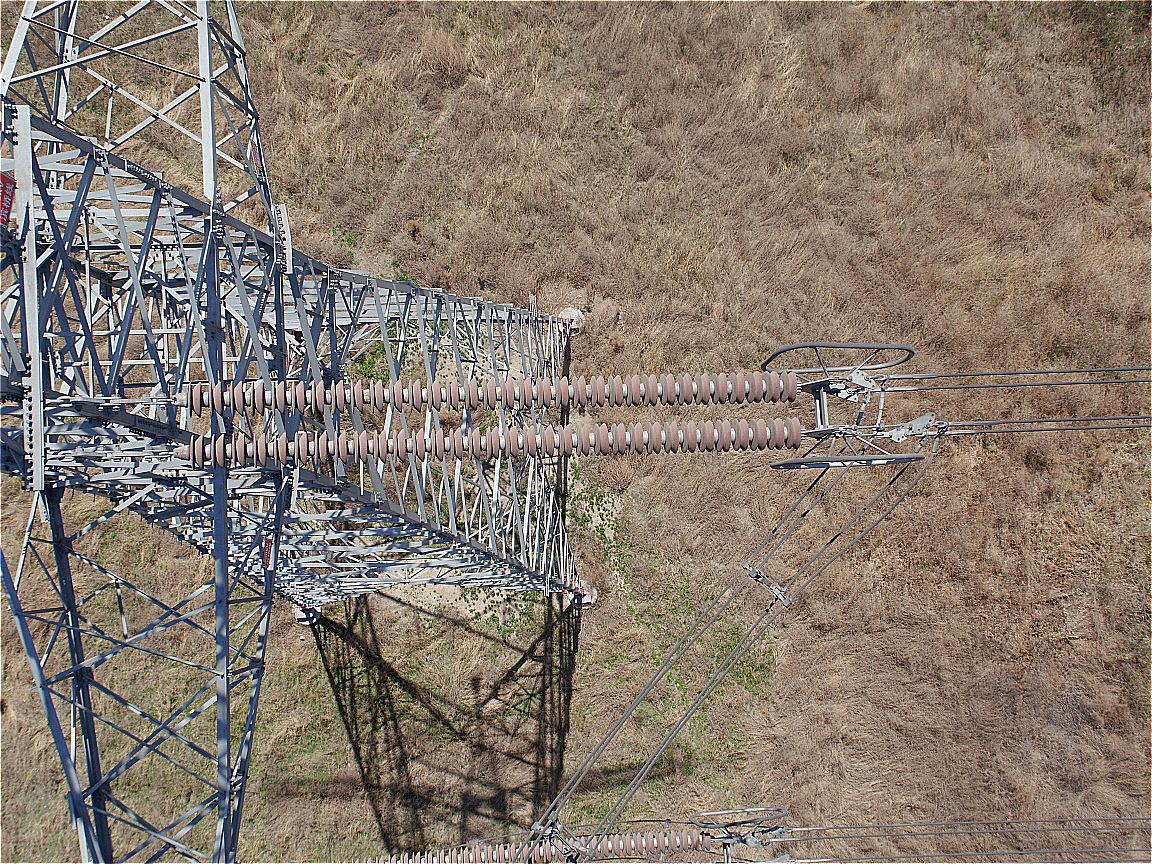insultor2: (186, 374, 800, 469)
